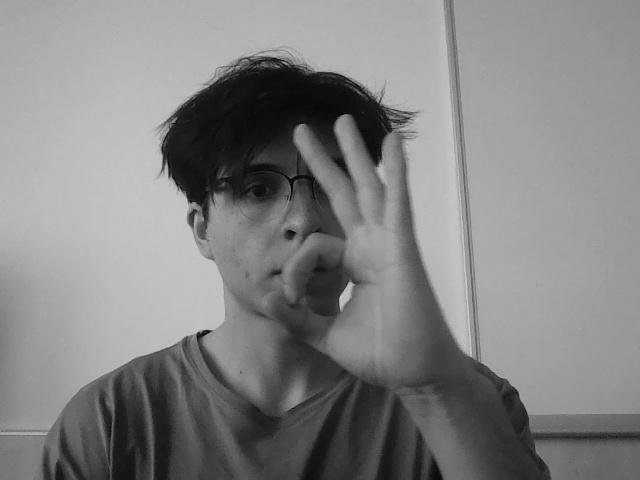OK: (266, 114, 477, 410)
